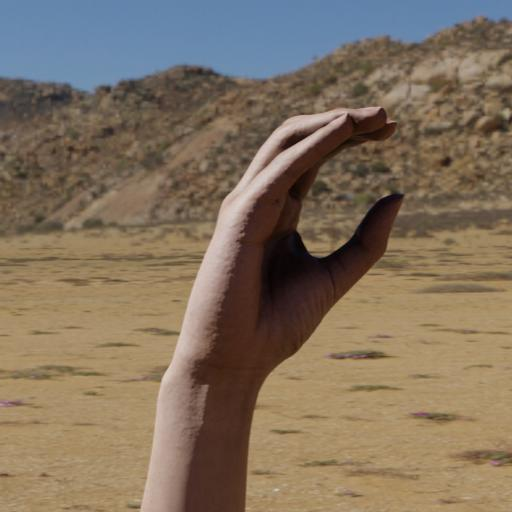C: (155, 100, 415, 390)
